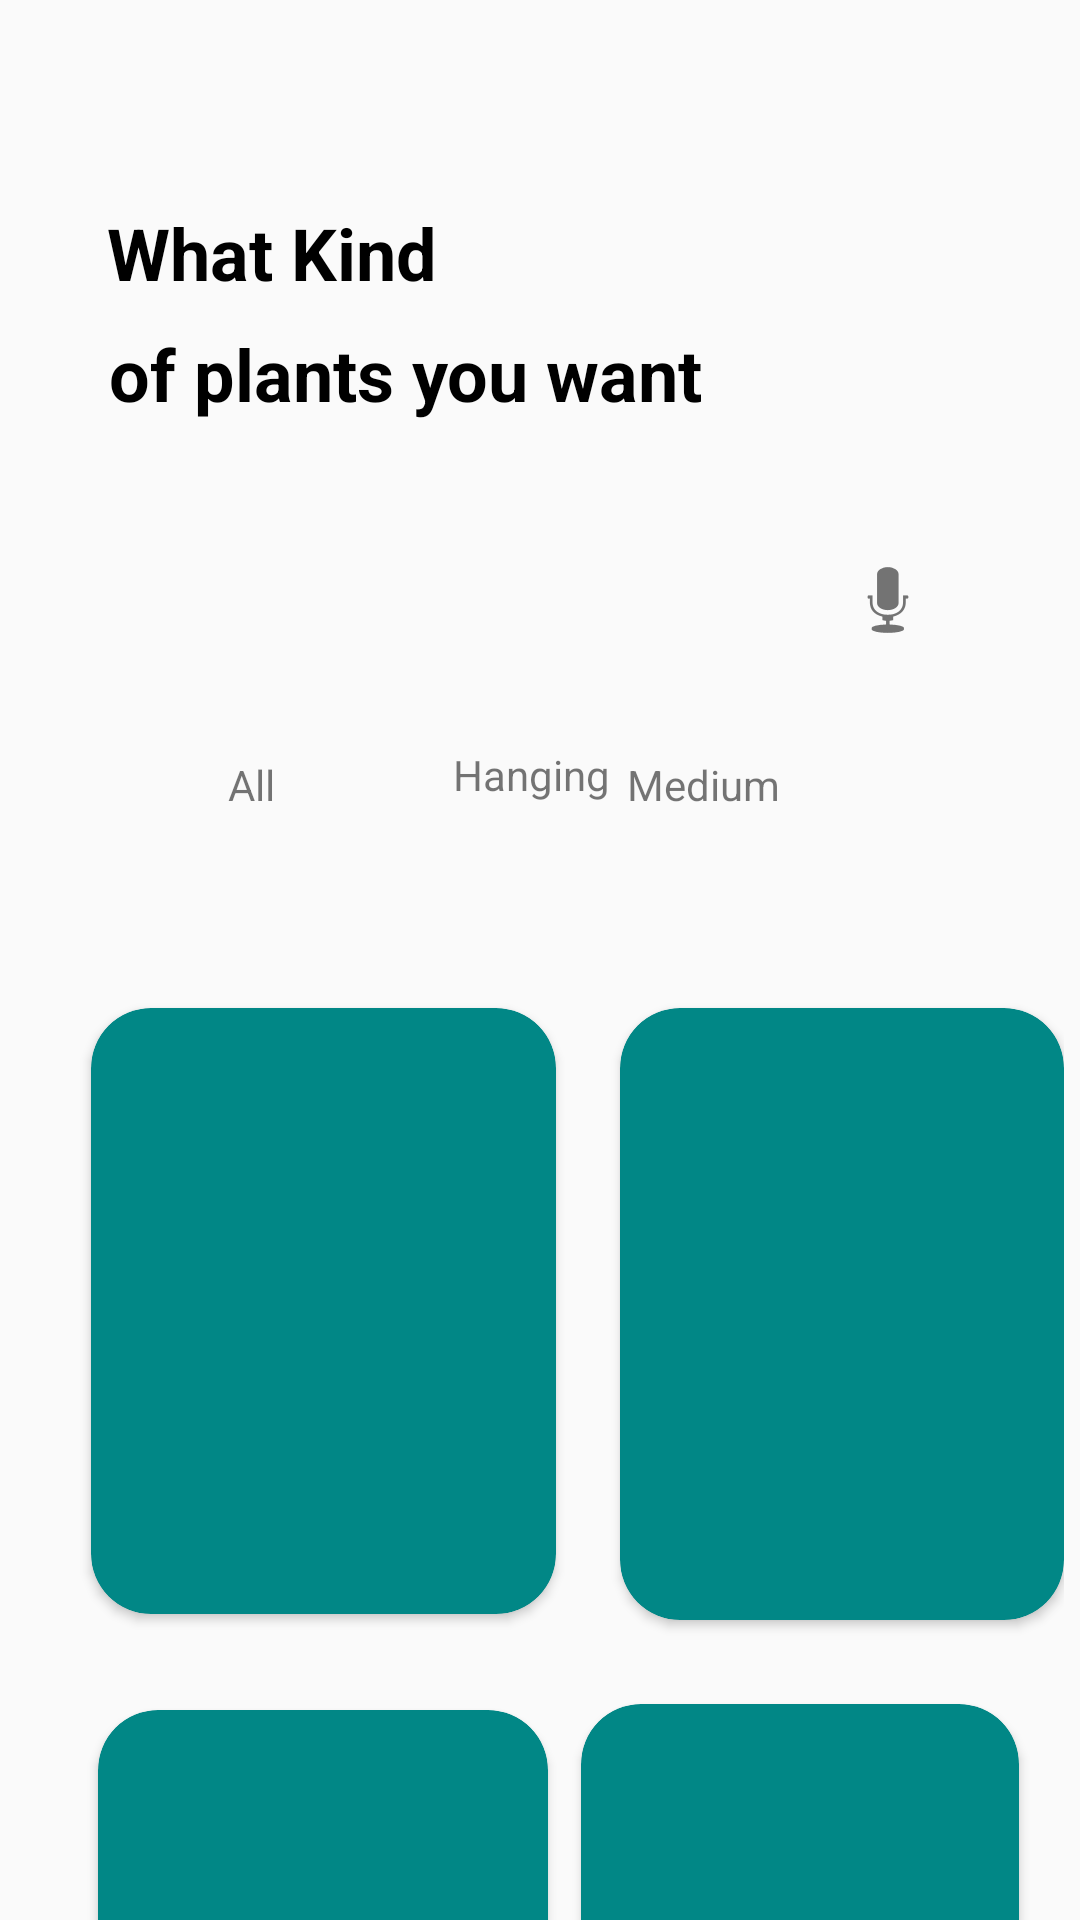

Icon bounding boxes for this 1080 × 1920 phone screenshot, format (x1, y1, x2, y2):
speak now: (867, 567, 909, 633)
